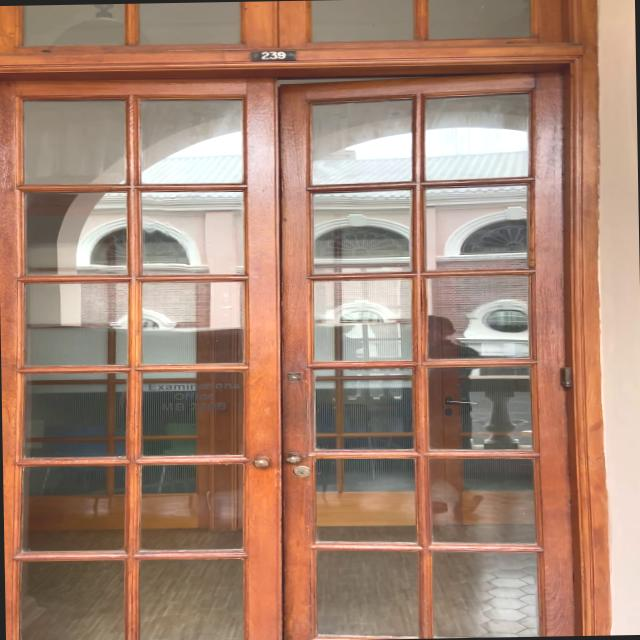room239: (249, 49, 296, 63)
